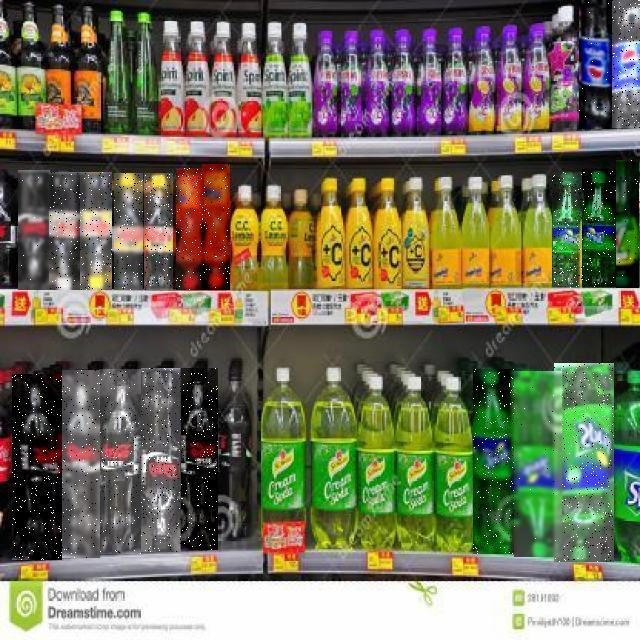Drinks: (554, 363, 614, 562), (12, 374, 62, 560), (515, 371, 563, 557), (474, 369, 516, 554), (99, 369, 141, 554), (141, 368, 181, 552), (62, 370, 100, 558), (180, 368, 218, 550), (579, 0, 612, 129), (582, 169, 616, 288), (18, 170, 50, 290), (80, 172, 112, 290), (49, 172, 80, 290), (612, 1, 640, 129), (202, 165, 230, 291), (552, 172, 582, 288), (176, 168, 204, 290), (144, 173, 173, 290), (114, 173, 143, 290), (616, 161, 639, 289)
